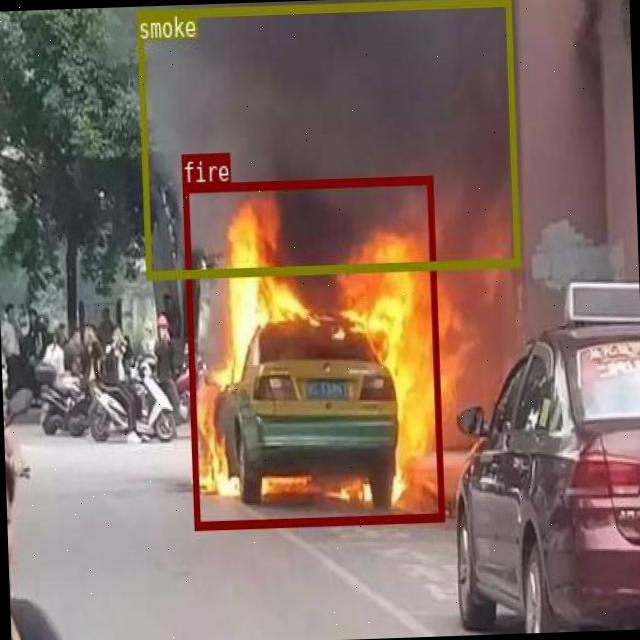fire: (181, 175, 443, 528)
smoke: (136, 0, 518, 278)
